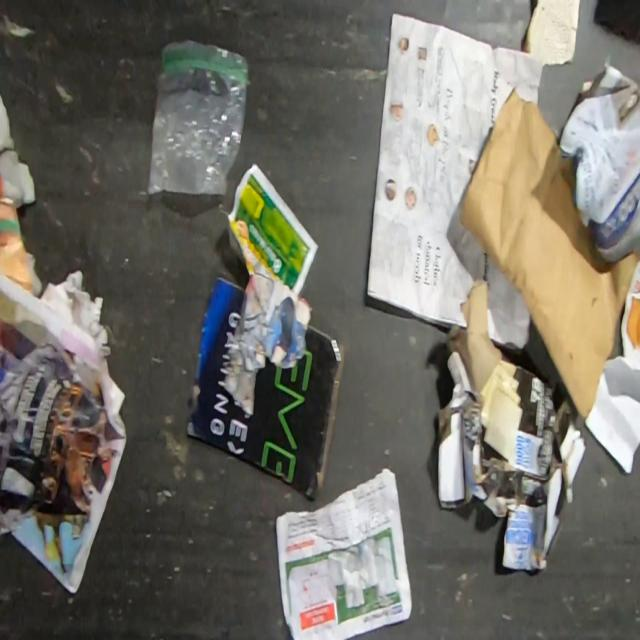cardboard: (456, 85, 639, 420), (186, 275, 346, 502), (437, 351, 587, 574)
soft_plastic: (145, 37, 250, 199)
